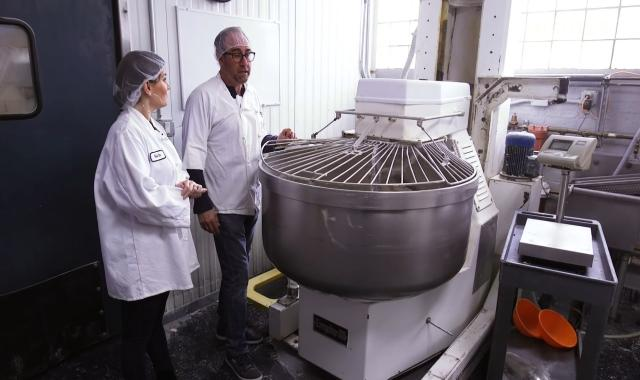hairnet: (109, 50, 166, 108), (207, 22, 253, 58)
